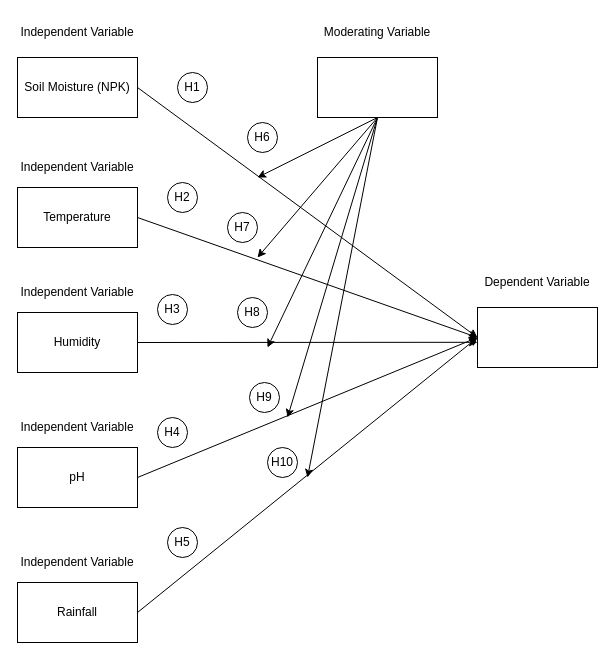
The diagram is 615 pixels wide and 660 high, and some of its shapes have lost their labels. The box of each missing label's shape, as (x1, y1, x2, y2) in pixels:
Best plant: (476, 306, 598, 368)
Soil Composition: (316, 56, 438, 118)
